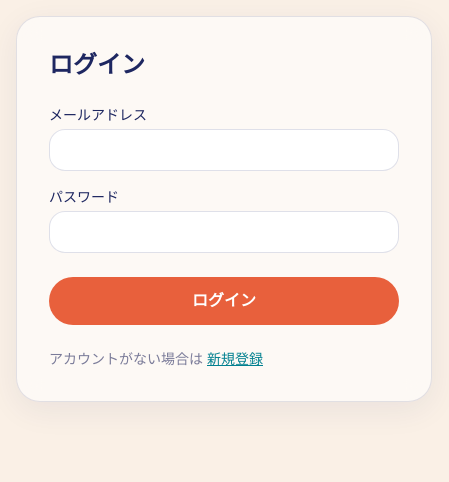
LoginPage (結合寄り) › 空入力でバリデーションエラー
The width and height of the screenshot is (449, 482).
Expected: the heading "ログイン" is shown, [49,51,145,78]
Click the button "ログイン": (224, 301) [49,277,399,325]
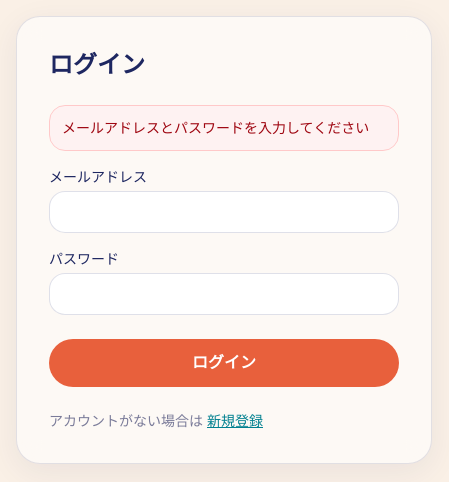
Expected: the text "メールアドレスとパスワードを入力してください" is shown, [49,105,399,151]
